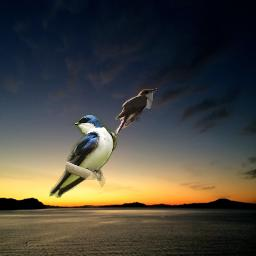Cuckoo: (114, 88, 158, 140)
Swallow: (49, 114, 117, 198)
